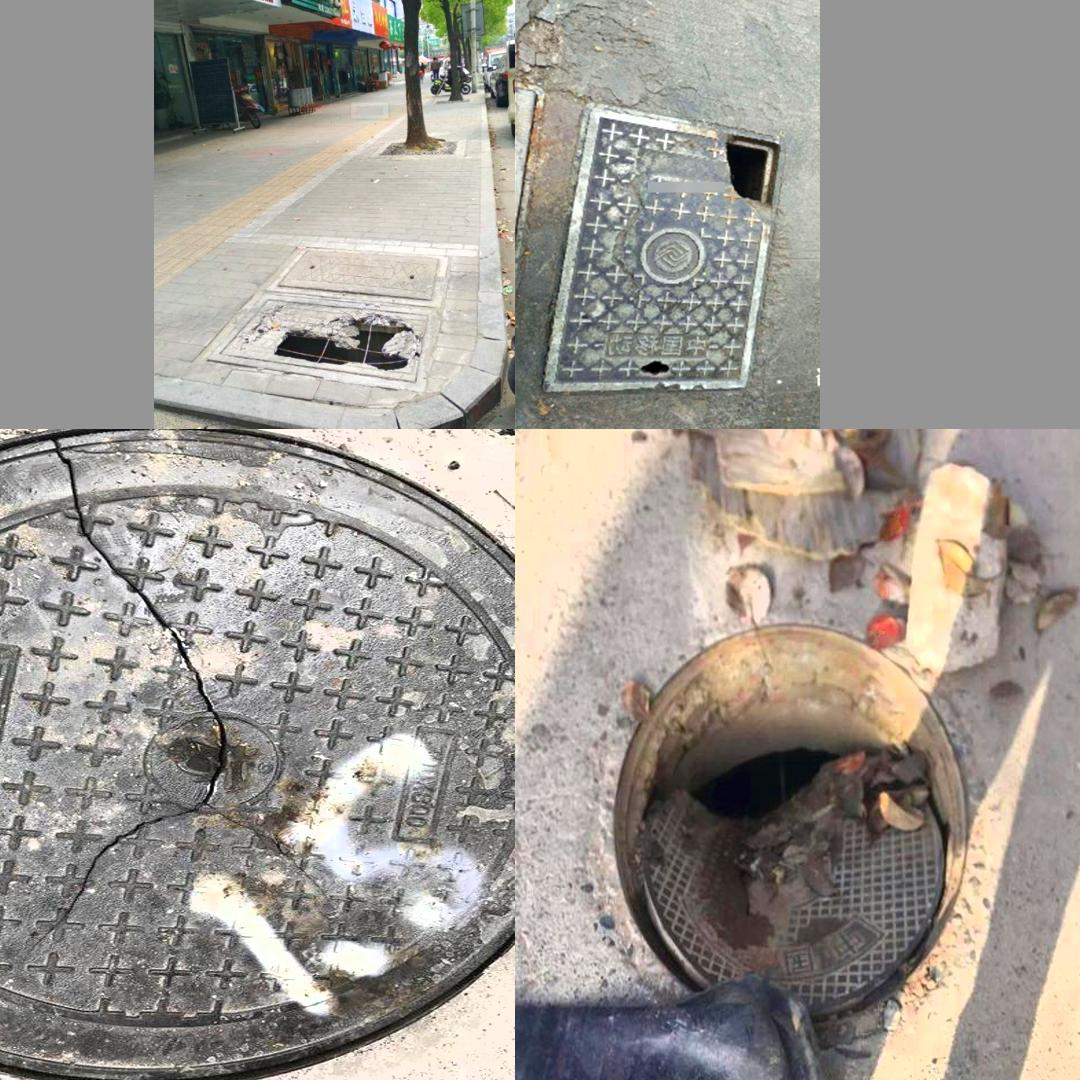broke: (0, 433, 502, 1080), (588, 610, 987, 1026), (540, 102, 786, 393), (206, 294, 435, 392)
good: (266, 245, 449, 306)
